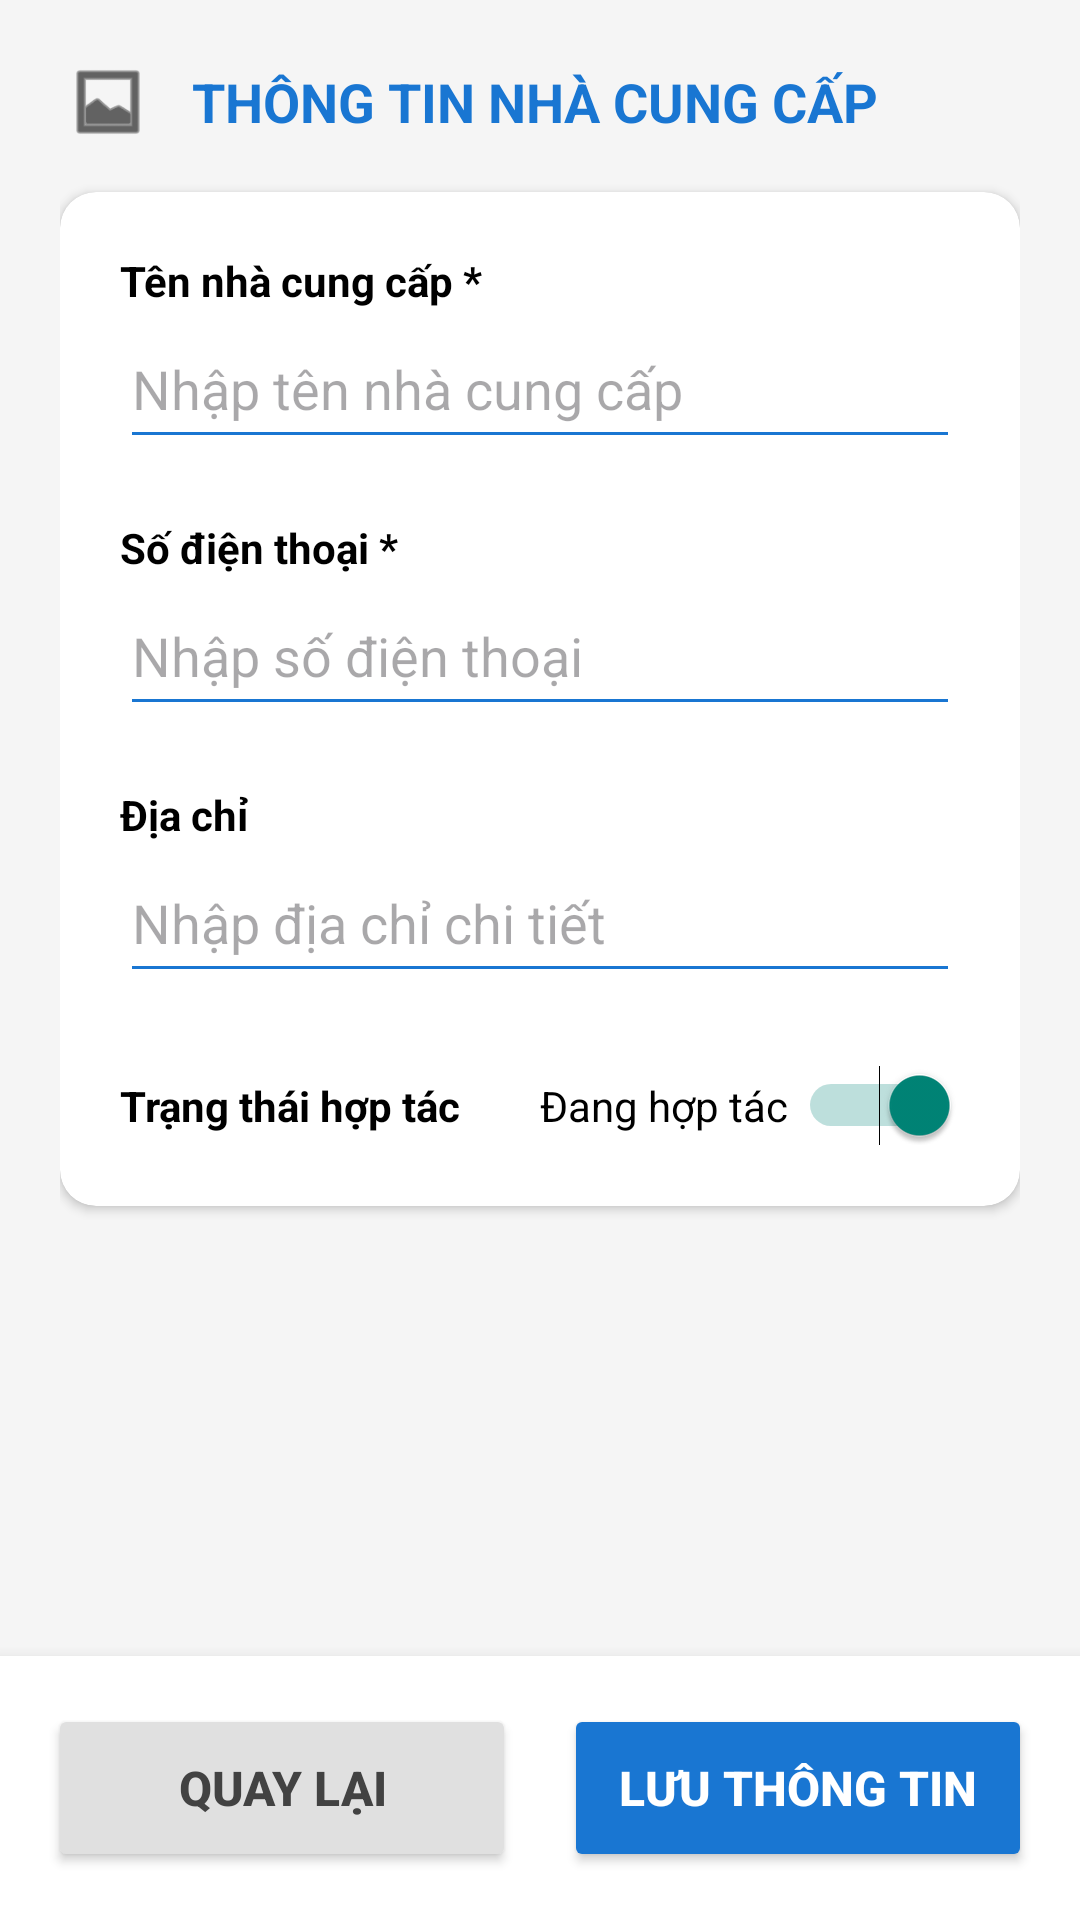

Screen size 1080 x 1920. Icon name, then its center in pixels as [x,y]:
gallery: [108,102]
